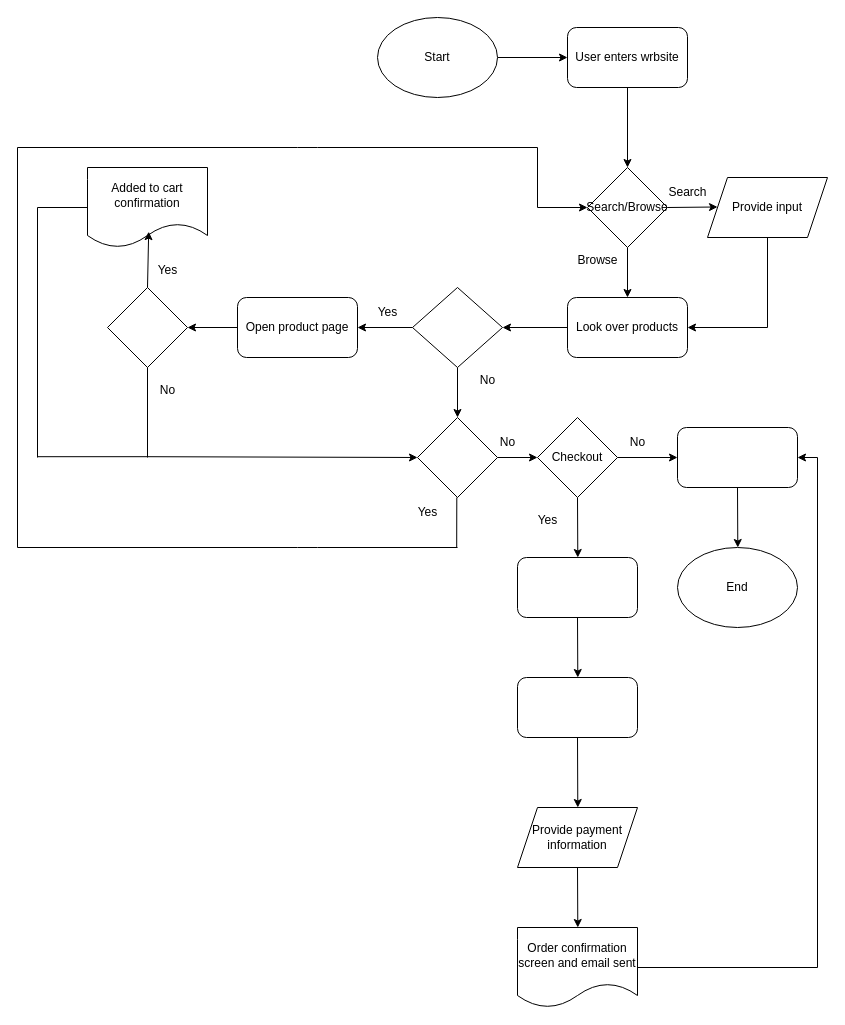
Image size: 845x1025. Some labels were removed from this diagram. The shapes that lost their labels are listed below. From the top down, each one's centre as x and y in pixels, then its label:
At point (147, 327): "Add to cart".
At point (457, 327): "View specific product".
At point (457, 457): "Continue shopping".
At point (737, 457): "User leaves wrbsite".
At point (577, 587): "View Cart".
At point (577, 707): "View Payment".
